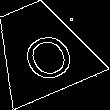O_NW: (8, 17, 74, 81)
